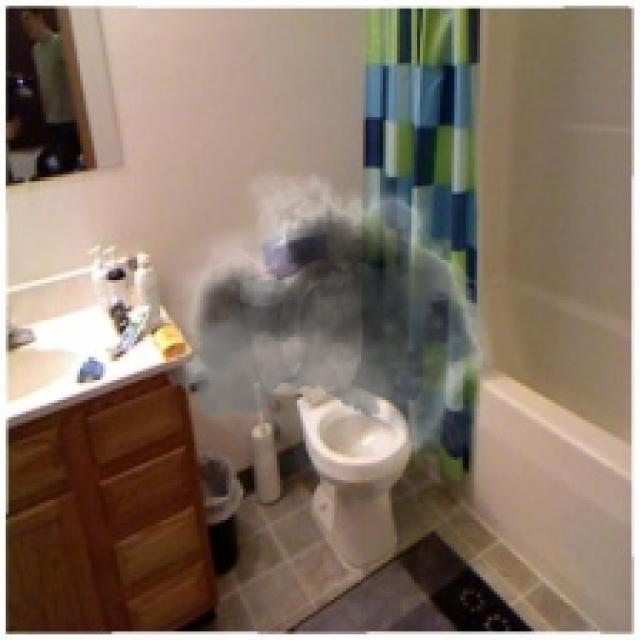Smoke: (163, 154, 508, 512)
